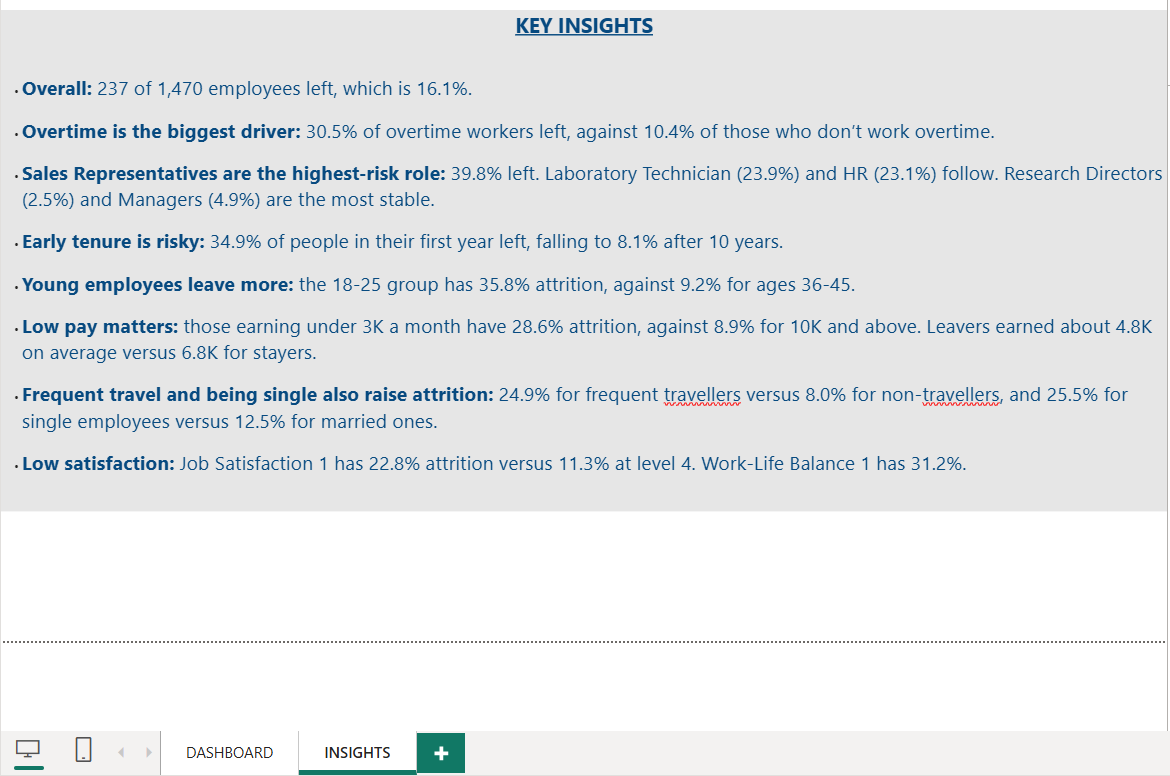

This screenshot's page, from the dashboard's own definition file:
{"tool":"powerbi","page":{"name":"INSIGHTS","canvas":[1280,720],"ordinal":1},"visuals":[{"type":"textbox","title":"KEY INSIGHTS","box":[0,27.4,1280.3,550.3],"z":0}]}

Visuals, with their boxes on the page's 1280x720 design canvas (x1, y1, x2, y2). These are canvas units, not pixel positions in the 1170x776 screenshot, which may show the page scaled, cropped or inside an application window:
"KEY INSIGHTS" textbox: 0/27/1280/578
